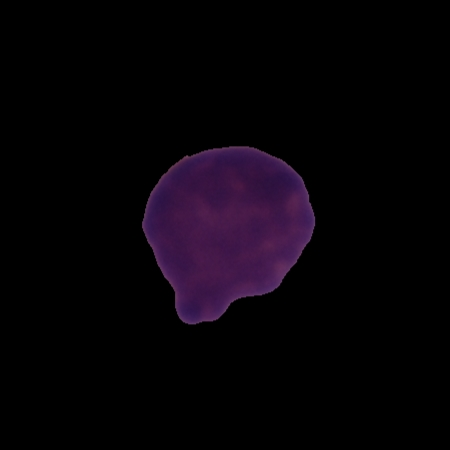HEM: (139, 142, 318, 326)
